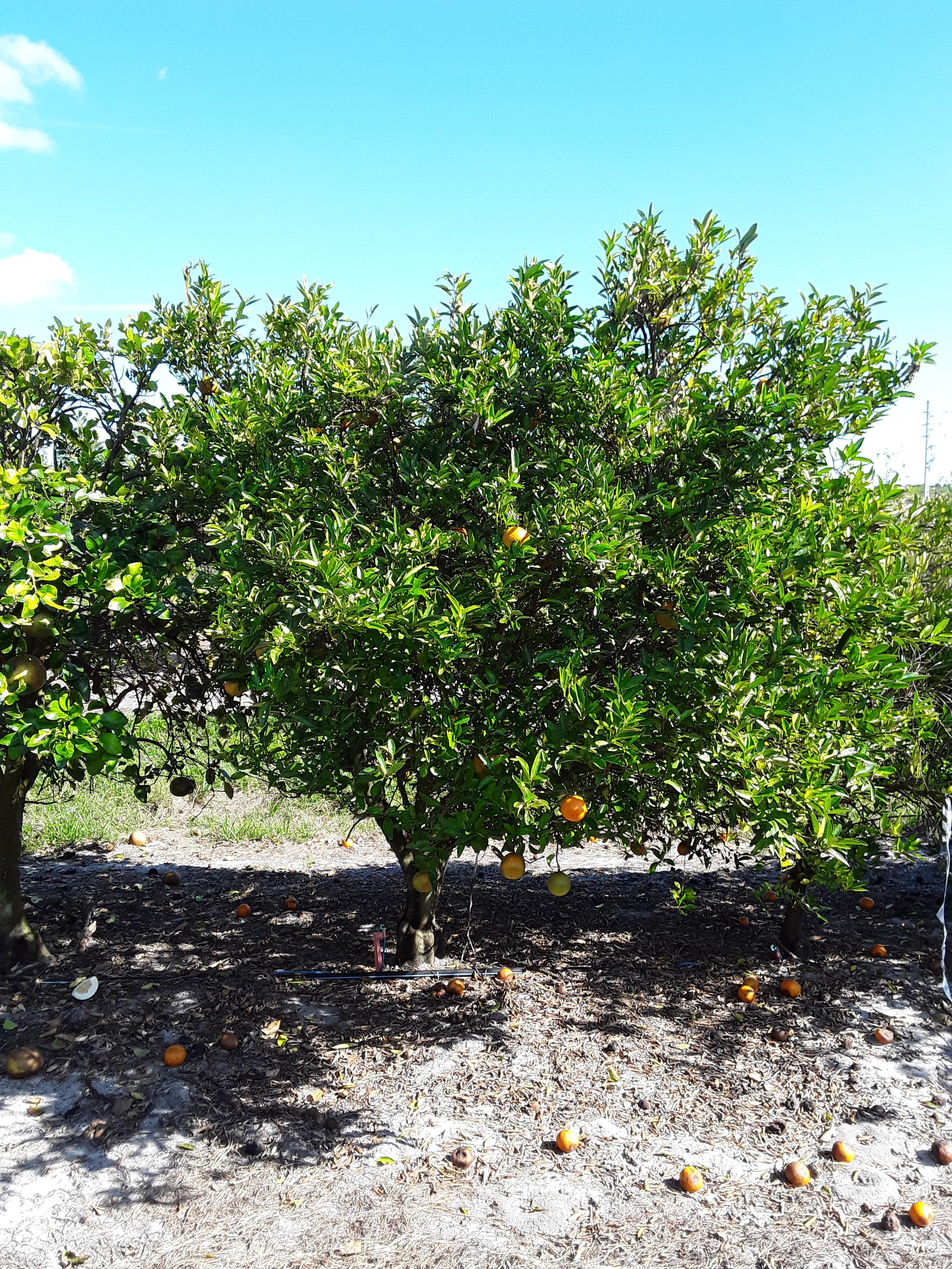fruit_on_ground: (2, 654, 47, 694), (20, 607, 60, 641), (469, 746, 508, 779), (653, 598, 684, 631), (499, 523, 532, 553), (557, 792, 588, 822), (500, 850, 528, 881), (545, 869, 574, 898), (334, 409, 362, 436), (386, 431, 414, 457), (167, 773, 195, 798), (250, 638, 277, 662), (520, 409, 545, 432), (197, 373, 222, 396), (537, 552, 563, 574), (358, 404, 382, 427), (222, 675, 246, 698), (411, 870, 435, 893), (304, 424, 327, 448), (449, 522, 472, 543), (754, 374, 775, 395), (628, 837, 649, 857), (716, 825, 736, 844), (675, 837, 693, 857)
fruit_on_tree: (3, 1042, 46, 1082), (783, 1159, 812, 1188), (678, 1165, 705, 1194), (70, 974, 100, 1000), (908, 1200, 935, 1227), (555, 1126, 581, 1153), (162, 1042, 189, 1068), (929, 1138, 952, 1166), (450, 1145, 475, 1169), (832, 1138, 856, 1163), (778, 977, 802, 998), (878, 1213, 901, 1234), (219, 1030, 240, 1051), (874, 1025, 895, 1045), (161, 869, 183, 888), (769, 1026, 792, 1044), (765, 1119, 788, 1136), (446, 977, 466, 996), (127, 829, 148, 847), (737, 984, 756, 1003), (869, 941, 888, 958), (497, 965, 515, 982), (235, 901, 252, 918), (926, 957, 943, 973), (637, 1097, 655, 1112), (429, 982, 447, 997), (744, 972, 761, 987), (858, 895, 875, 910), (284, 895, 299, 911), (339, 834, 354, 848), (763, 889, 778, 902), (735, 914, 751, 926), (588, 832, 601, 844), (777, 872, 789, 883), (147, 867, 160, 877)
